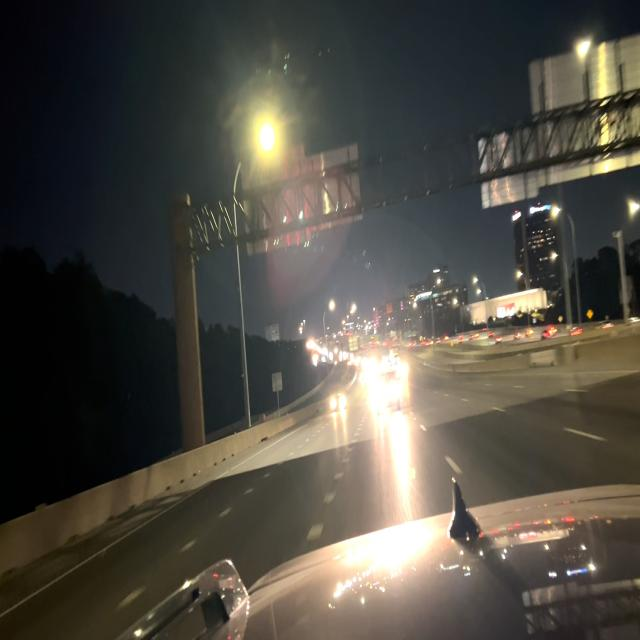back-of-sign: (476, 33, 640, 212), (242, 139, 364, 254), (271, 369, 283, 398)
